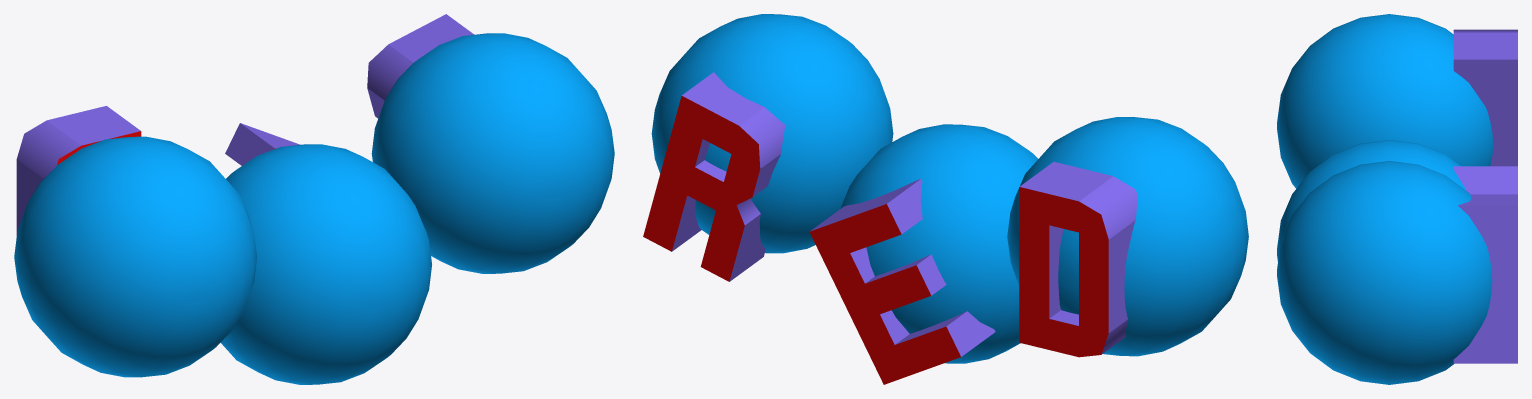
File: red.glb
3 views of the same model, side by side, from view 1: azimuth 30°, elevation 25°; view 2: azimuth 150°, elevation 25°; view 3: azimuth 270°, elevation 25° (orthographic). The views are drawn at different scales.
Parts seen in each view (by area): view 1: sphere (×3), D, R, E; view 2: sphere (×3), D, R, E; view 3: sphere (×3), R, D, E.
Boxes of the visible parts, x1=… form: sphere (×3): x1=14, y1=33, x2=614, y2=384; D: x1=16, y1=106, x2=141, y2=235; R: x1=367, y1=14, x2=473, y2=118; E: x1=225, y1=123, x2=299, y2=165; sphere (×3): x1=651, y1=14, x2=1248, y2=363; D: x1=1019, y1=161, x2=1137, y2=357; R: x1=643, y1=72, x2=785, y2=281; E: x1=809, y1=179, x2=995, y2=384; sphere (×3): x1=1277, y1=14, x2=1493, y2=384; R: x1=1453, y1=194, x2=1517, y2=363; D: x1=1453, y1=29, x2=1517, y2=166; E: x1=1453, y1=166, x2=1517, y2=194.
Bounding box in the file's own units: 1.89 × 0.9119 × 0.75.
